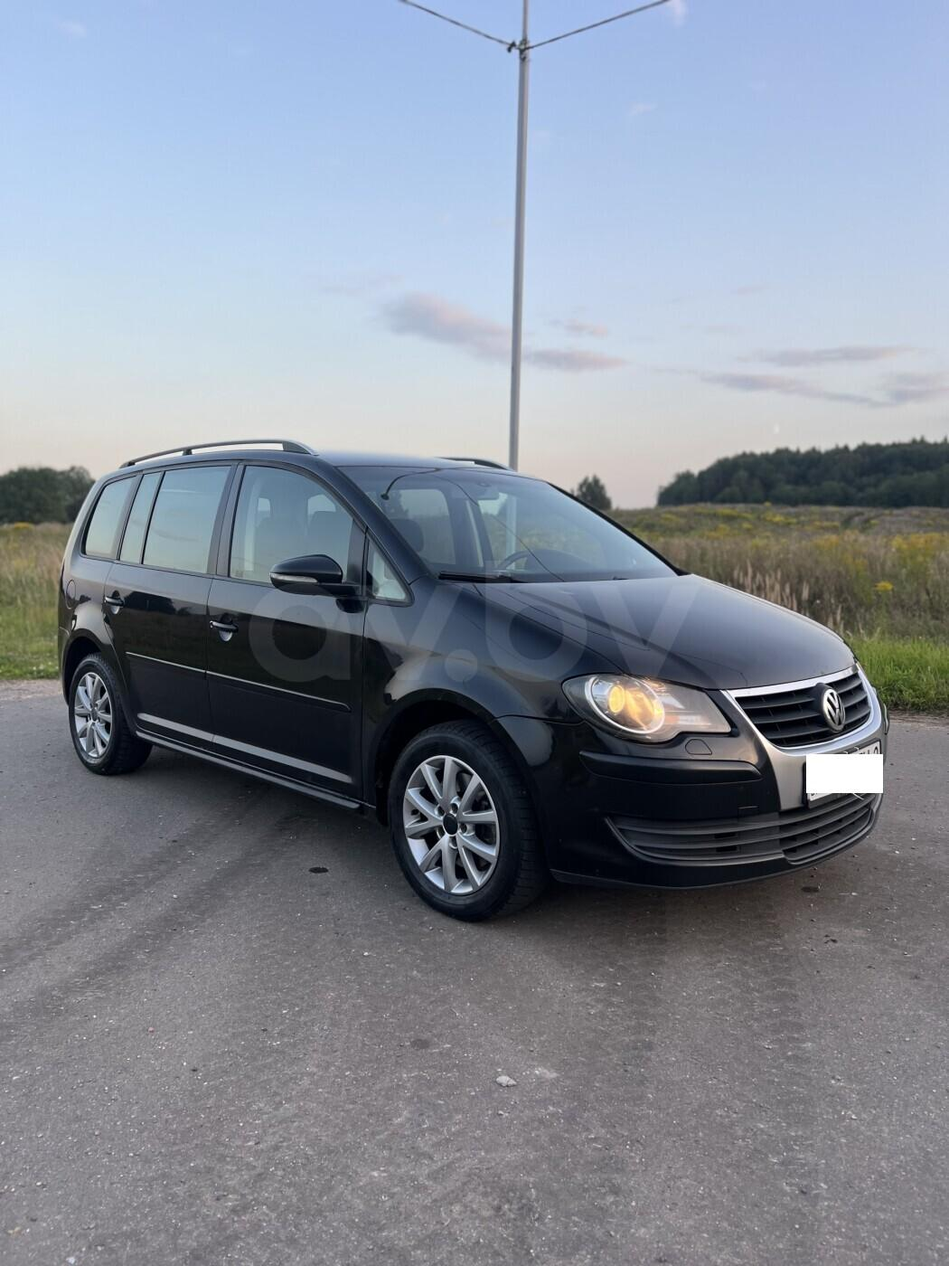Touran_2006-2010: (58, 447, 891, 915)
